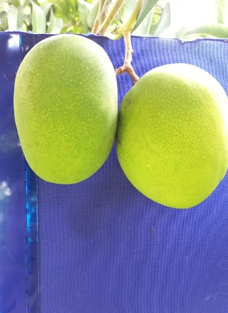Mango-sano: (116, 63, 227, 208), (14, 34, 117, 183)
